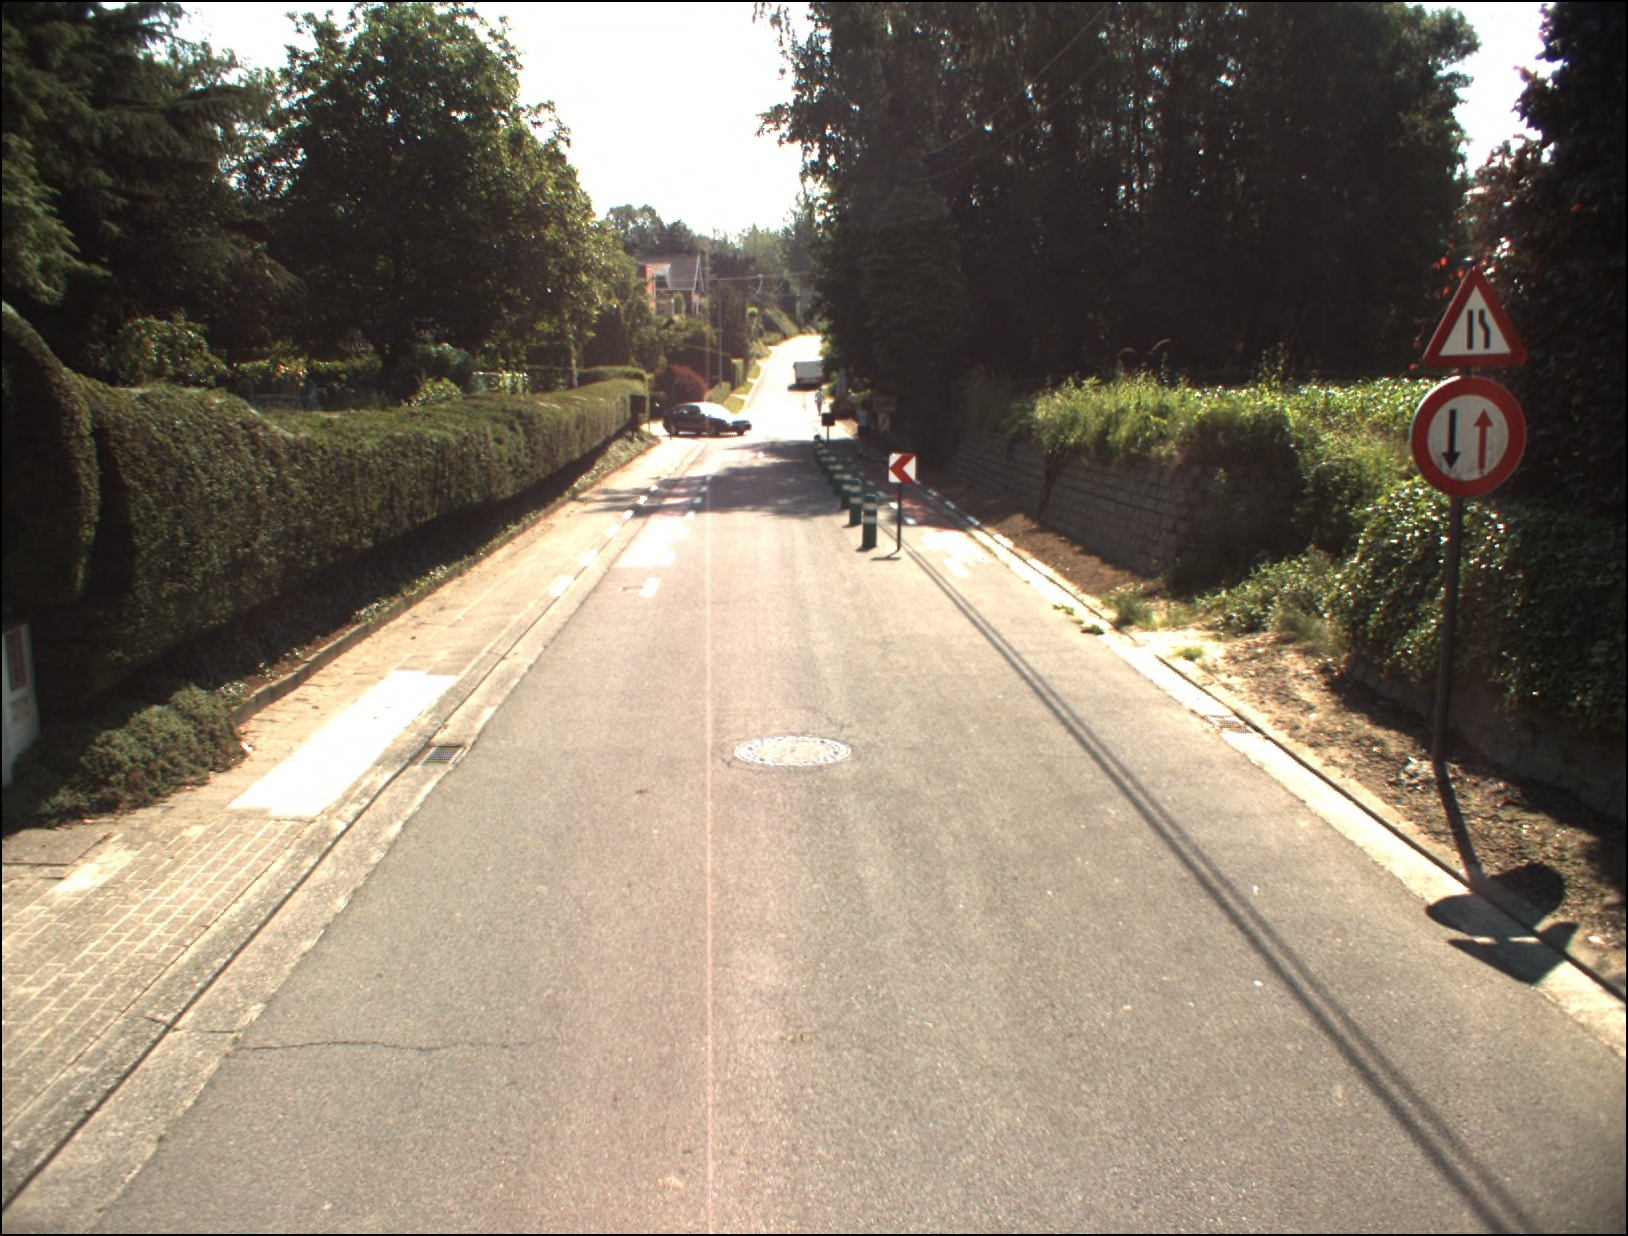roadnarrow2: (1407, 380, 1531, 492)
